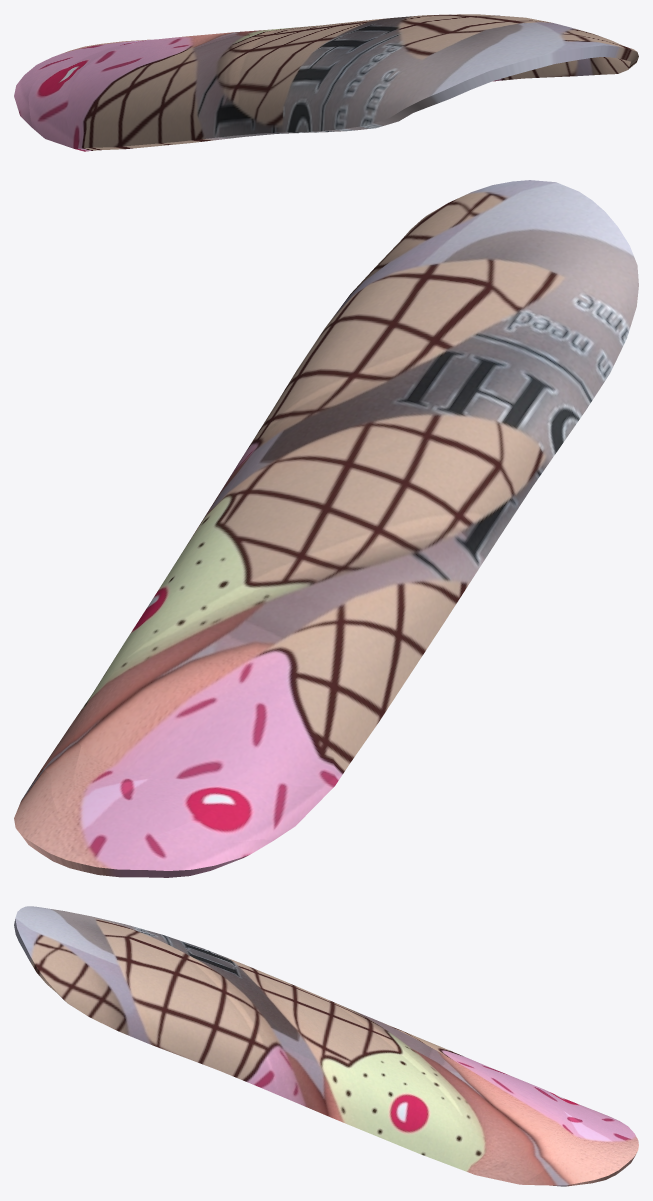
3 renders of one model, top to bottom at view 1: azimuth 30°, elevation 25°; view 2: azimuth 150°, elevation 25°; view 3: azimuth 270°, elevation 25°, orthographic. The views are drawn at different scales.
Parts seen in each view (by area): view 1: OBJ_34, OBJ_41, OBJ_40, OBJ_37, OBJ_39; view 2: OBJ_34, OBJ_40, OBJ_41, OBJ_37, OBJ_39, OBJ_38, OBJ_42; view 3: OBJ_34, OBJ_38, OBJ_42, OBJ_37, OBJ_40, OBJ_39.
Boxes of the visible parts, left/top/right/bottom form: OBJ_34: left=66, top=14, right=638, bottom=151; OBJ_41: left=28, top=56, right=84, bottom=151; OBJ_40: left=14, top=39, right=149, bottom=127; OBJ_37: left=61, top=39, right=159, bottom=81; OBJ_39: left=61, top=39, right=155, bottom=71; OBJ_34: left=69, top=180, right=638, bottom=786; OBJ_40: left=60, top=796, right=273, bottom=877; OBJ_41: left=139, top=781, right=334, bottom=844; OBJ_37: left=70, top=746, right=251, bottom=815; OBJ_39: left=68, top=786, right=203, bottom=840; OBJ_38: left=14, top=768, right=83, bottom=871; OBJ_42: left=42, top=728, right=81, bottom=821; OBJ_34: left=14, top=906, right=561, bottom=1174; OBJ_38: left=521, top=1145, right=638, bottom=1186; OBJ_42: left=476, top=1138, right=606, bottom=1184; OBJ_37: left=542, top=1089, right=585, bottom=1144; OBJ_40: left=585, top=1109, right=638, bottom=1151; OBJ_39: left=573, top=1102, right=612, bottom=1146.
Size of the model in its own units: 130 by 163 by 397.
